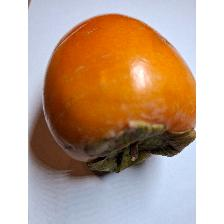Kaki: (39, 11, 196, 178)
